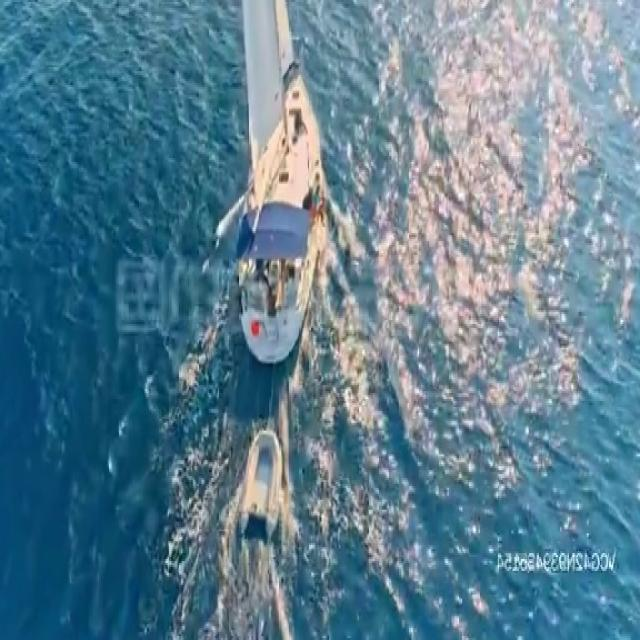sailboat: (223, 0, 337, 365)
